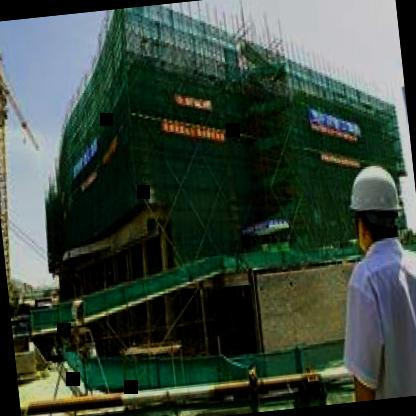helmet: (342, 154, 408, 250)
